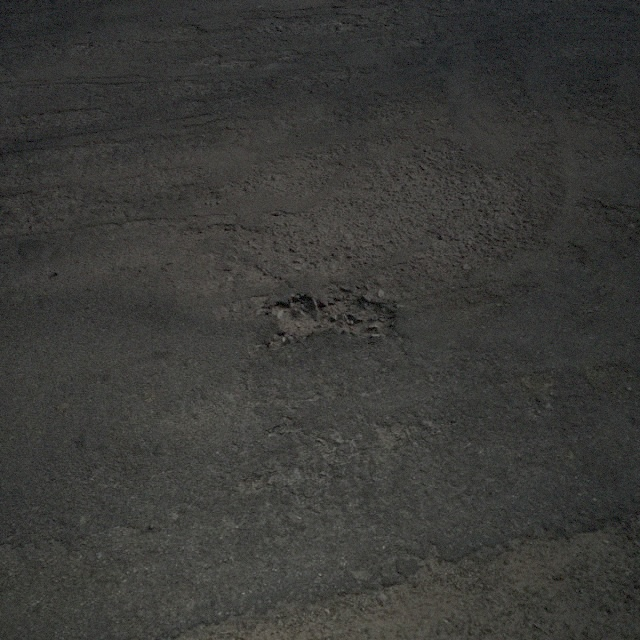pothole: (142, 513, 639, 639), (260, 289, 396, 346)
